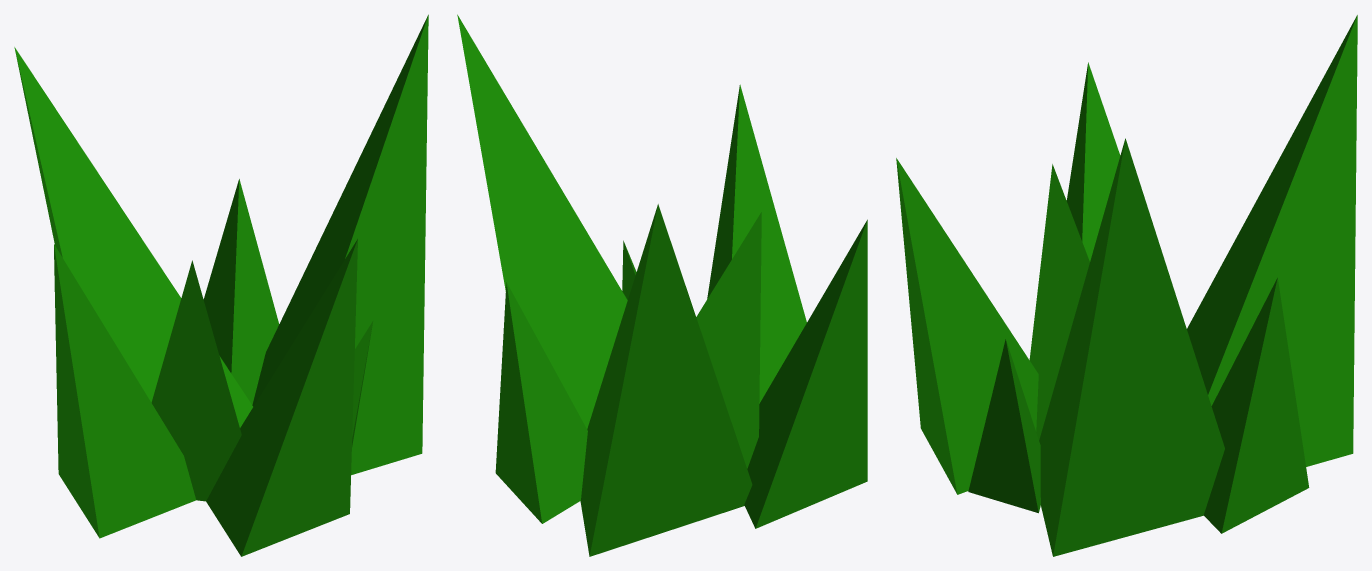
The model's file is Grass.fbx.
3 views of the same model, side by side, from view 1: azimuth 30°, elevation 25°; view 2: azimuth 150°, elevation 25°; view 3: azimuth 270°, elevation 25° (orthographic). The views are drawn at different scales.
Visible parts, largest first — view 1: Grass; view 2: Grass; view 3: Grass.
Part boxes in pixels (<box>): Grass: <box>14,14,428,556</box>; Grass: <box>457,14,867,556</box>; Grass: <box>896,15,1357,556</box>.
Bounding box in the file's own units: 2.02 × 2 × 1.9.
